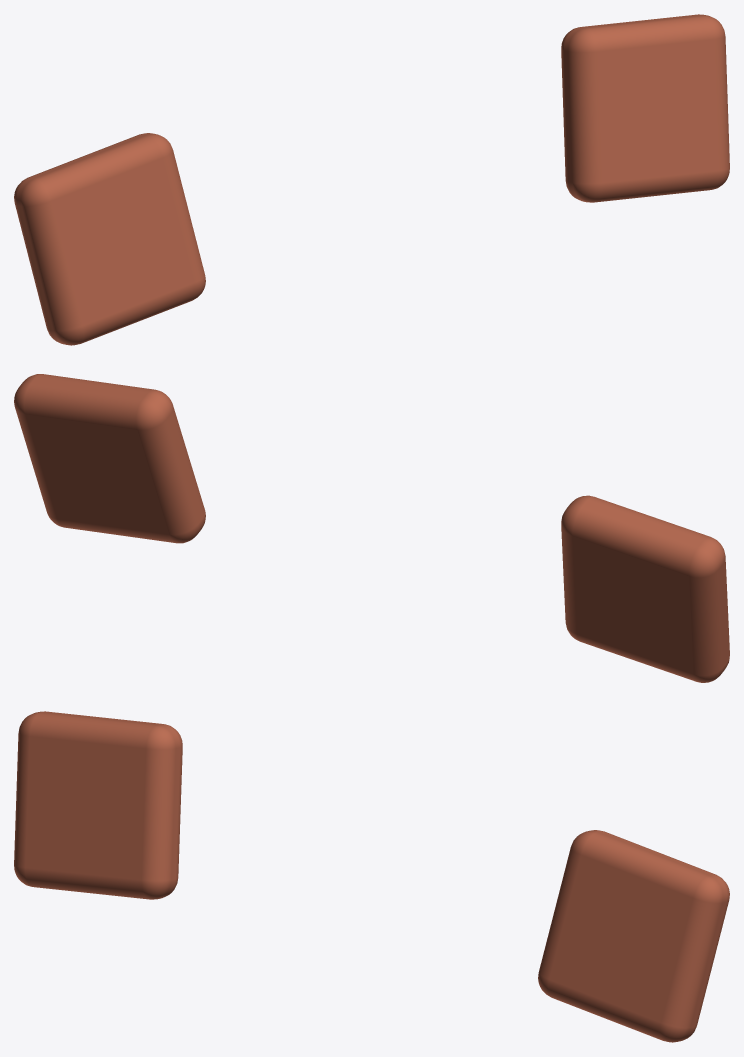
Rendered from aria-sofa-scatter-cushions.glb.
The picture shows the model from 3 angles, top to bottom: view 1: azimuth 30°, elevation 25°; view 2: azimuth 150°, elevation 25°; view 3: azimuth 330°, elevation 25°; orthographic projection.
Visible parts, largest first — view 1: Scatter_cushion_1, Scatter_cushion_2; view 2: Scatter_cushion_2, Scatter_cushion_1; view 3: Scatter_cushion_2, Scatter_cushion_1.
Part boxes in pixels (box(x1,y1,x2,y2)): Scatter_cushion_1: box(14, 133, 205, 345); Scatter_cushion_2: box(561, 14, 729, 202); Scatter_cushion_2: box(14, 374, 205, 543); Scatter_cushion_1: box(561, 495, 729, 682); Scatter_cushion_2: box(538, 830, 729, 1042); Scatter_cushion_1: box(14, 711, 182, 899).
Bounding box in the file's own units: 1.83 × 0.4255 × 0.2113.
